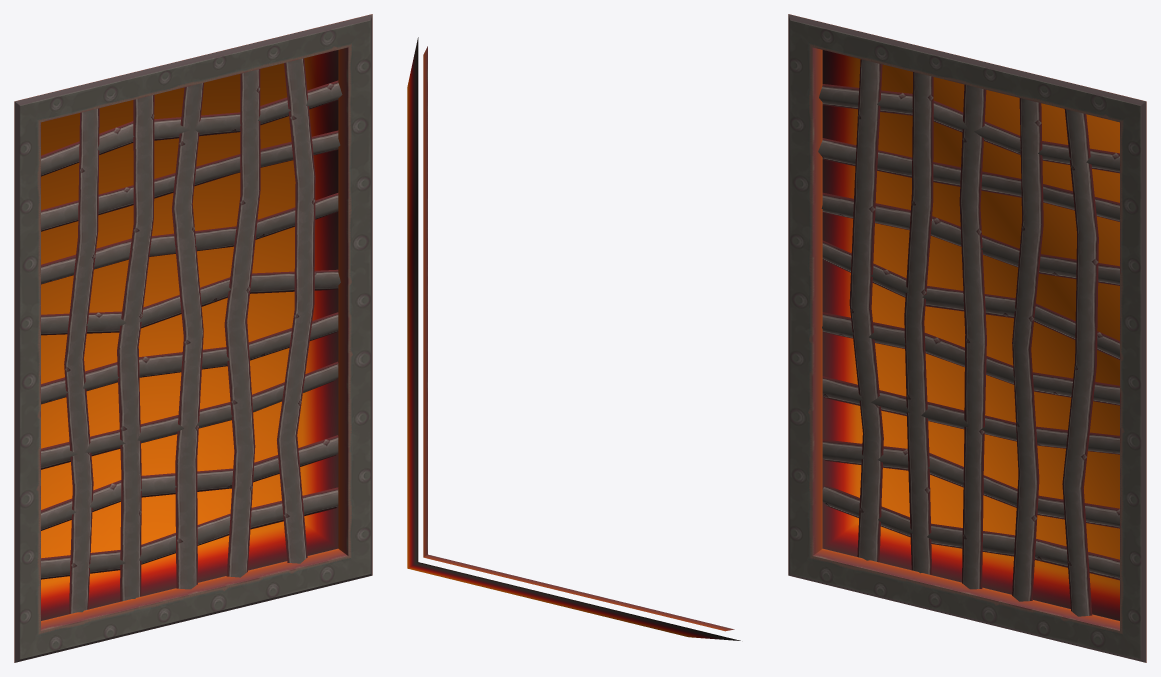
Rendered from tile_4x6.glb.
3 renders of one model, left to right at view 1: azimuth 30°, elevation 25°; view 2: azimuth 150°, elevation 25°; view 3: azimuth 330°, elevation 25°, orthographic.
Visible parts, largest first — view 1: flame_grates.tile_4x6-MeshNodes["flame_pit_4x6_bars"], flame_grates.tile_4x6-MeshNodes["flame_pit_4x6_pit"], flame_grates.tile_4x6-MeshNodes["flame_pit_4x6"]; view 2: flame_grates.tile_4x6-MeshNodes["flame_pit_4x6_pit"], flame_grates.tile_4x6-MeshNodes["flame_pit_4x6"]; view 3: flame_grates.tile_4x6-MeshNodes["flame_pit_4x6_bars"], flame_grates.tile_4x6-MeshNodes["flame_pit_4x6_pit"], flame_grates.tile_4x6-MeshNodes["flame_pit_4x6"].
Boxes of the visible parts, bbox=[...] form: flame_grates.tile_4x6-MeshNodes["flame_pit_4x6_bars"]: bbox=[41, 58, 342, 613]; flame_grates.tile_4x6-MeshNodes["flame_pit_4x6_pit"]: bbox=[41, 50, 338, 620]; flame_grates.tile_4x6-MeshNodes["flame_pit_4x6"]: bbox=[14, 14, 372, 662]; flame_grates.tile_4x6-MeshNodes["flame_pit_4x6_pit"]: bbox=[407, 37, 740, 640]; flame_grates.tile_4x6-MeshNodes["flame_pit_4x6"]: bbox=[423, 46, 734, 631]; flame_grates.tile_4x6-MeshNodes["flame_pit_4x6_bars"]: bbox=[818, 59, 1119, 616]; flame_grates.tile_4x6-MeshNodes["flame_pit_4x6_pit"]: bbox=[822, 50, 1119, 620]; flame_grates.tile_4x6-MeshNodes["flame_pit_4x6"]: bbox=[788, 14, 1146, 662].
Bounding box in the file's own units: 4.01 × 6.01 × 0.6696.
3 materials, 3 textured.
